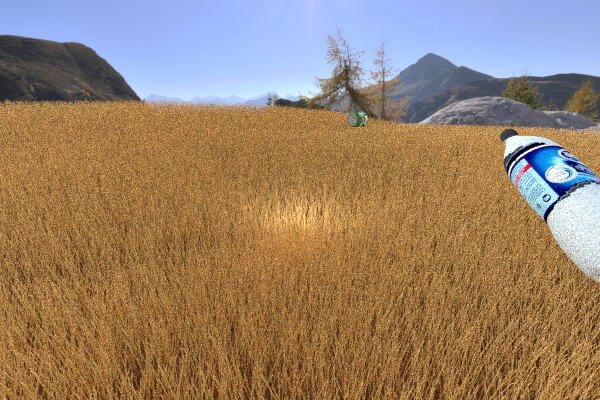Plastic Bottle: (499, 128, 600, 294), (226, 111, 269, 136), (346, 112, 368, 127)
